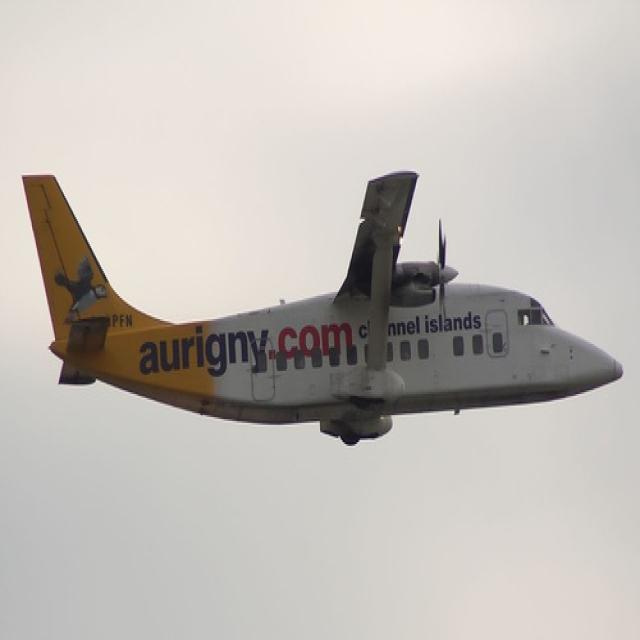aeroplane: (20, 169, 626, 450)
